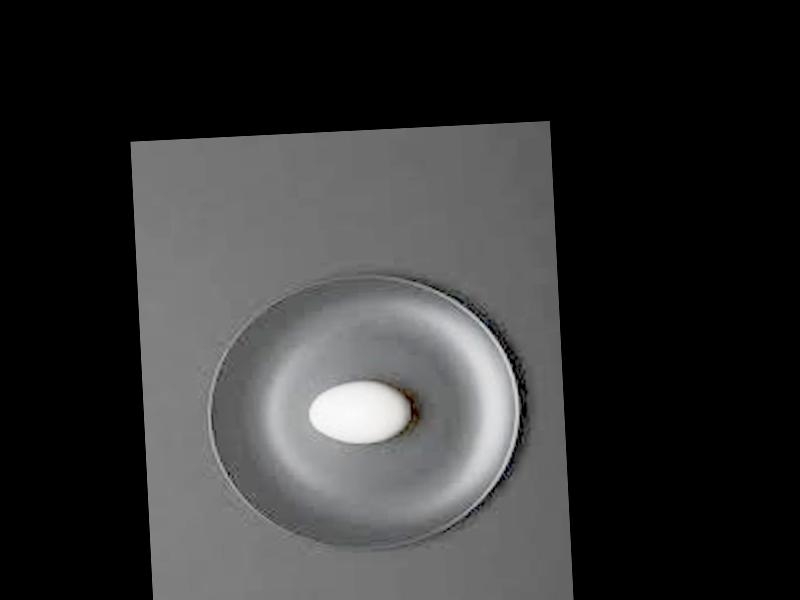Eggs: (308, 378, 409, 445)
